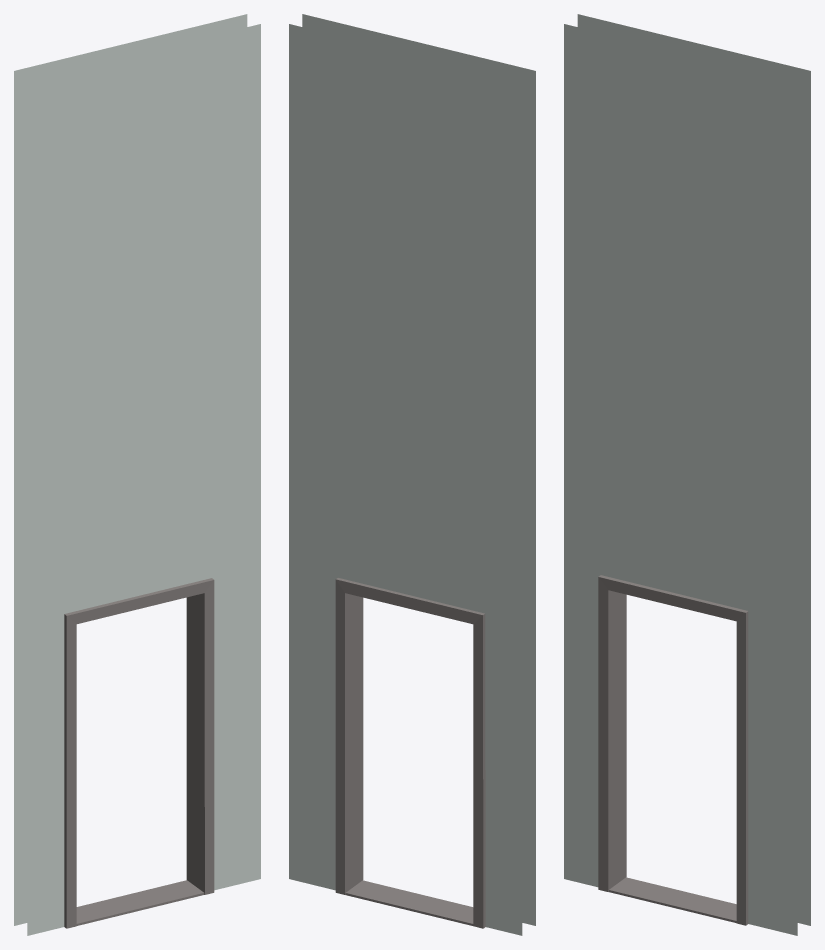
The model's file is SM_Outer_DoorFrame_A2_200.fbx.
The picture shows the model from 3 angles, left to right: view 1: azimuth 30°, elevation 25°; view 2: azimuth 150°, elevation 25°; view 3: azimuth 330°, elevation 25°; orthographic projection.
Visible parts, largest first — view 1: SM_Outer_DoorFrame_A2_200; view 2: SM_Outer_DoorFrame_A2_200; view 3: SM_Outer_DoorFrame_A2_200.
Boxes of the visible parts, x1=… form: SM_Outer_DoorFrame_A2_200: x1=14, y1=14, x2=260, y2=935; SM_Outer_DoorFrame_A2_200: x1=289, y1=14, x2=535, y2=935; SM_Outer_DoorFrame_A2_200: x1=564, y1=14, x2=810, y2=935.
Size of the model in its own units: 200 by 27.36 by 700.
Materials: 5 (5 with a texture image).
